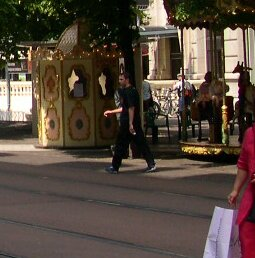person: (227, 96, 255, 257)
